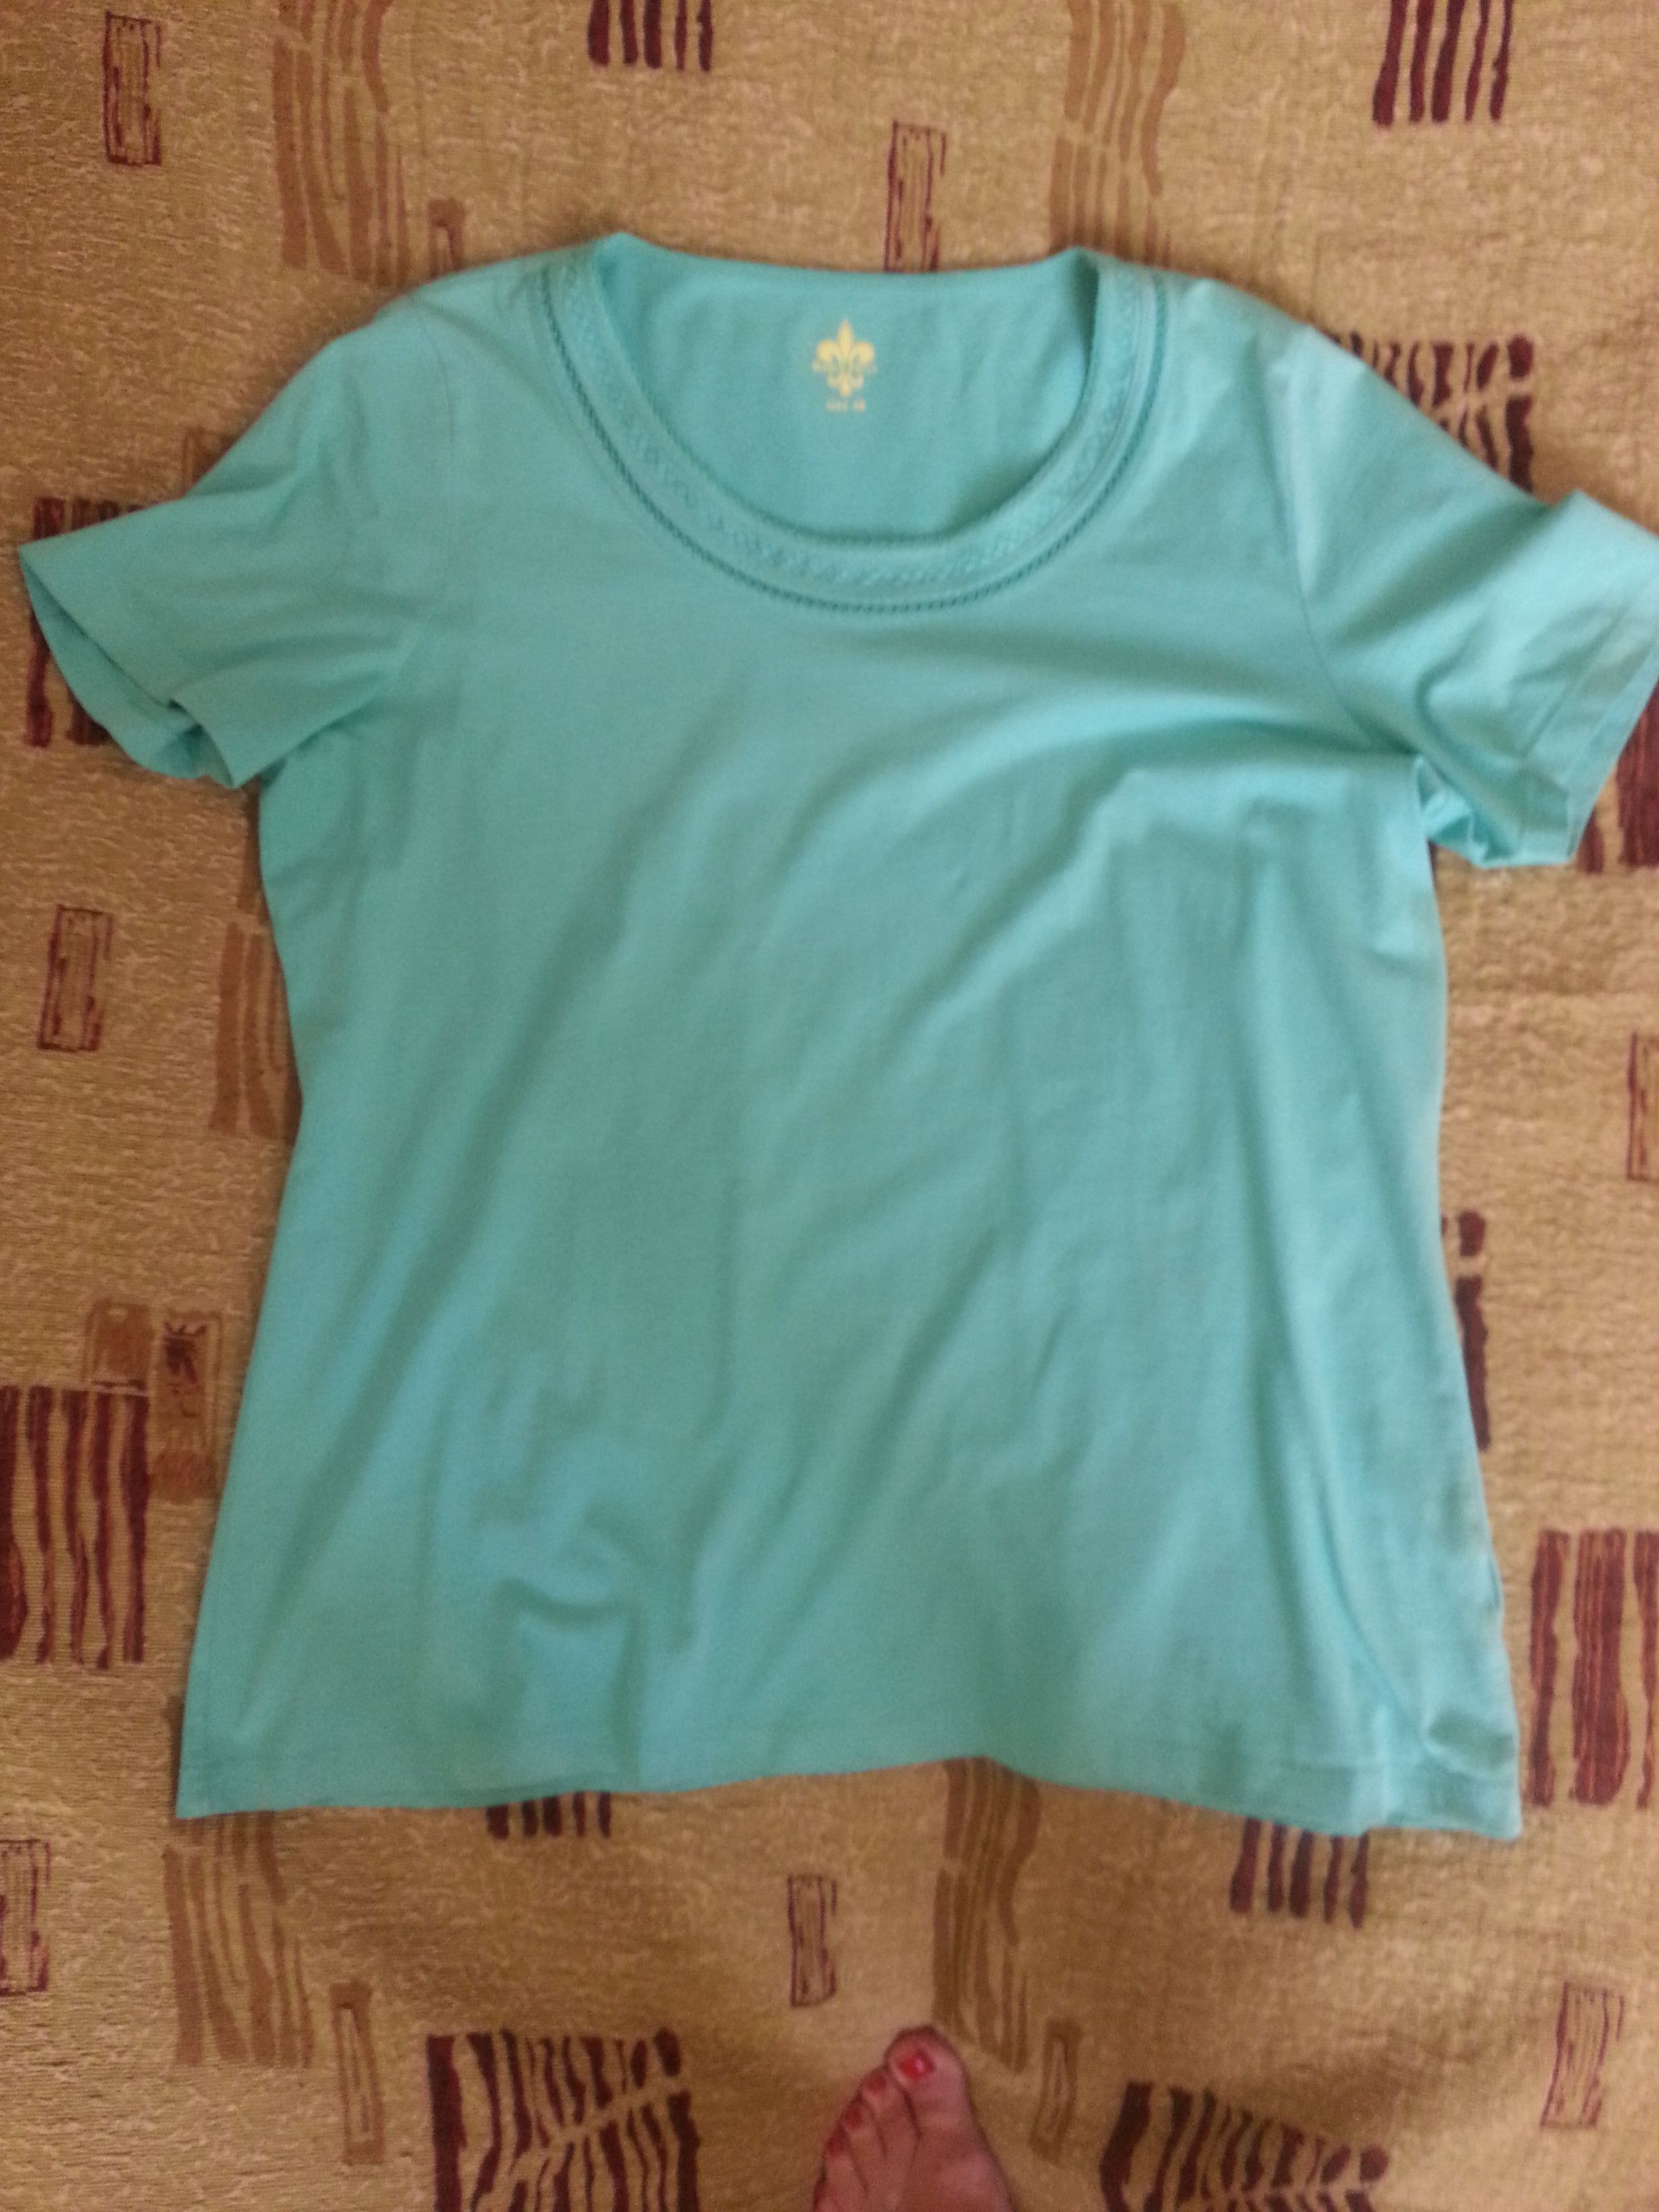clothes: (35, 200, 1659, 1858)
